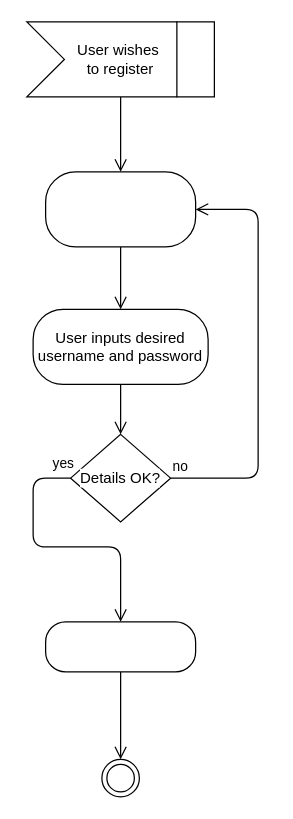
Some shapes in this 293 by 819 pixel diagram are drawn without their labels. The shapes that lost their labels are listed below. From the top down, each one's centre as x and y in pixels, then its label:
At (120,209): "User inputs name, surname and email".
At (120,646): "User logs in".
